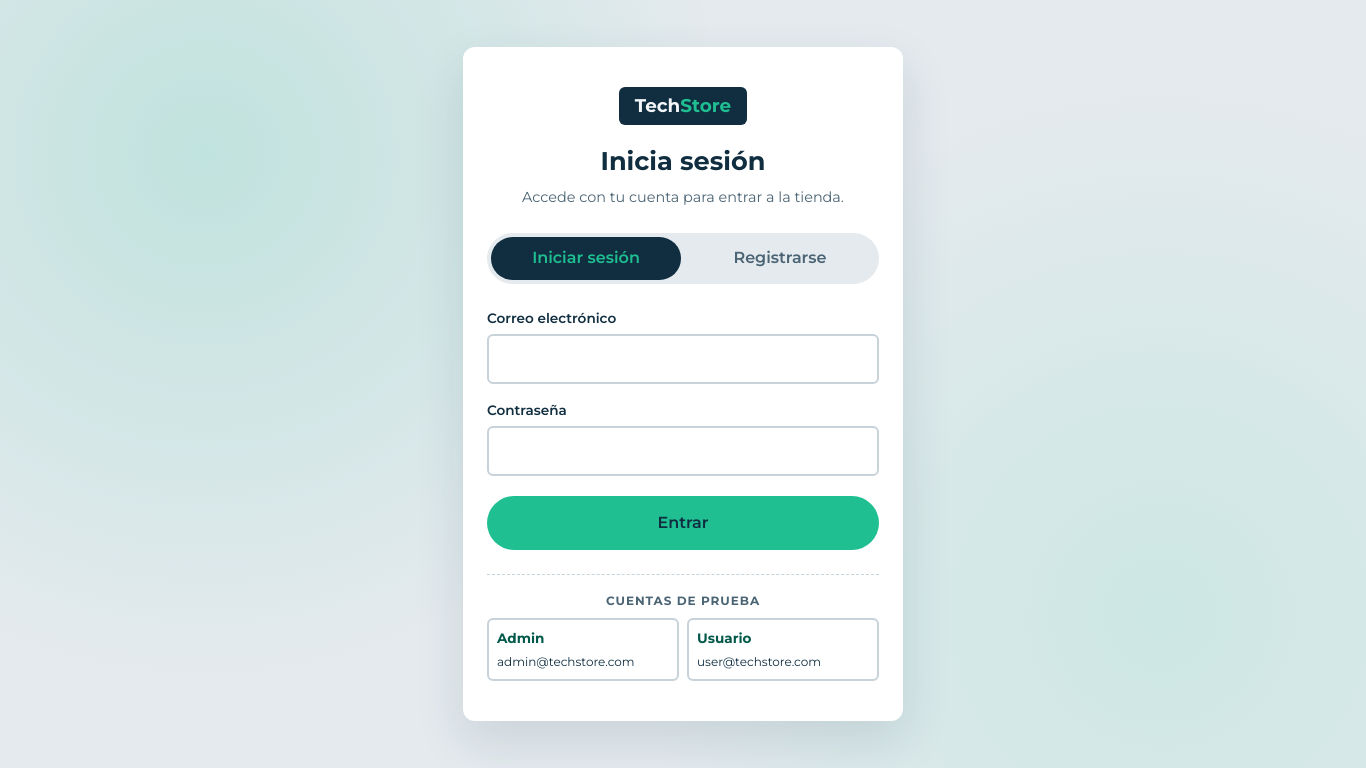
Test case: login obligatorio › los botones de cuentas de prueba llenan el formulario
Click the button with aria-label "cuenta de prueba Admin".
click(583, 649)  # box [487,618,679,681]
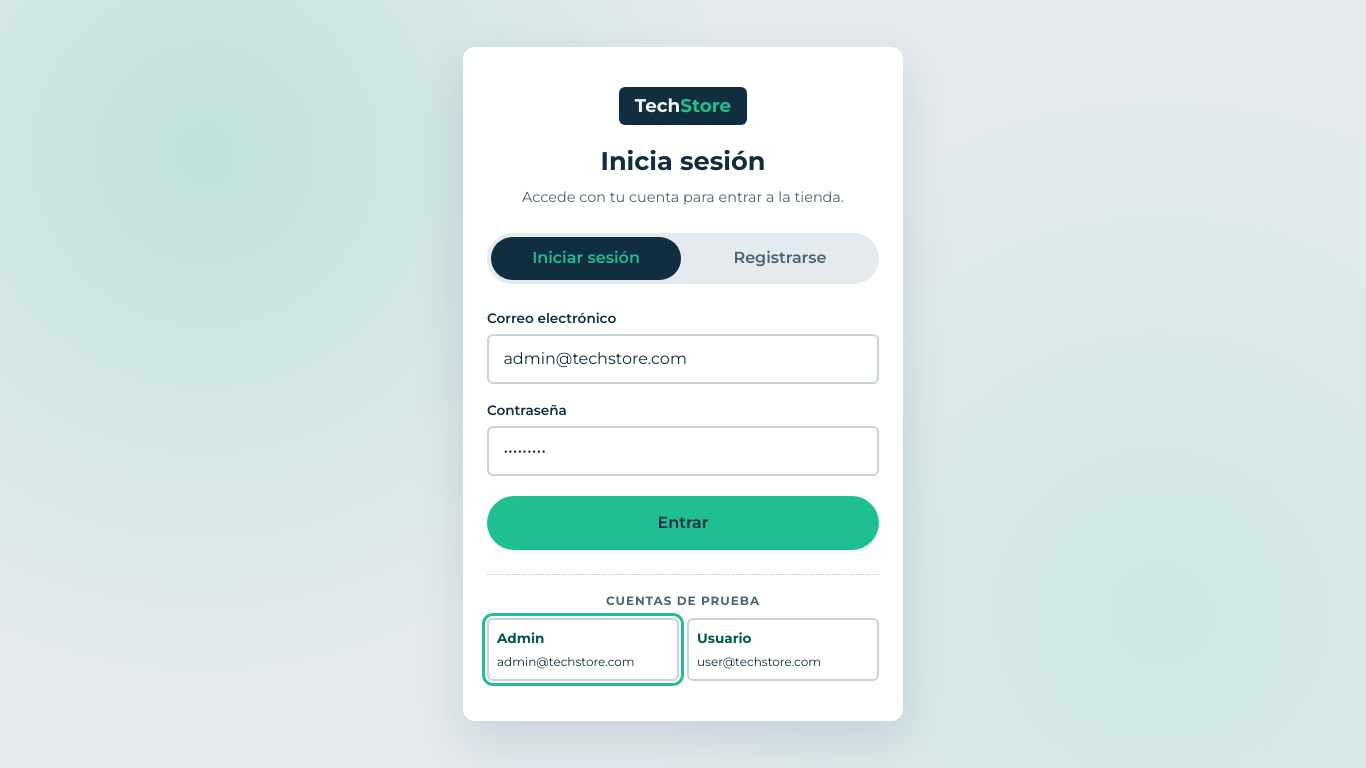
Result: the field labelled "Correo electrónico" holds "admin@techstore.com" at [487,334,879,384]
Result: the password field labelled "Contraseña" holds "Admin123!" at [487,426,879,476]
